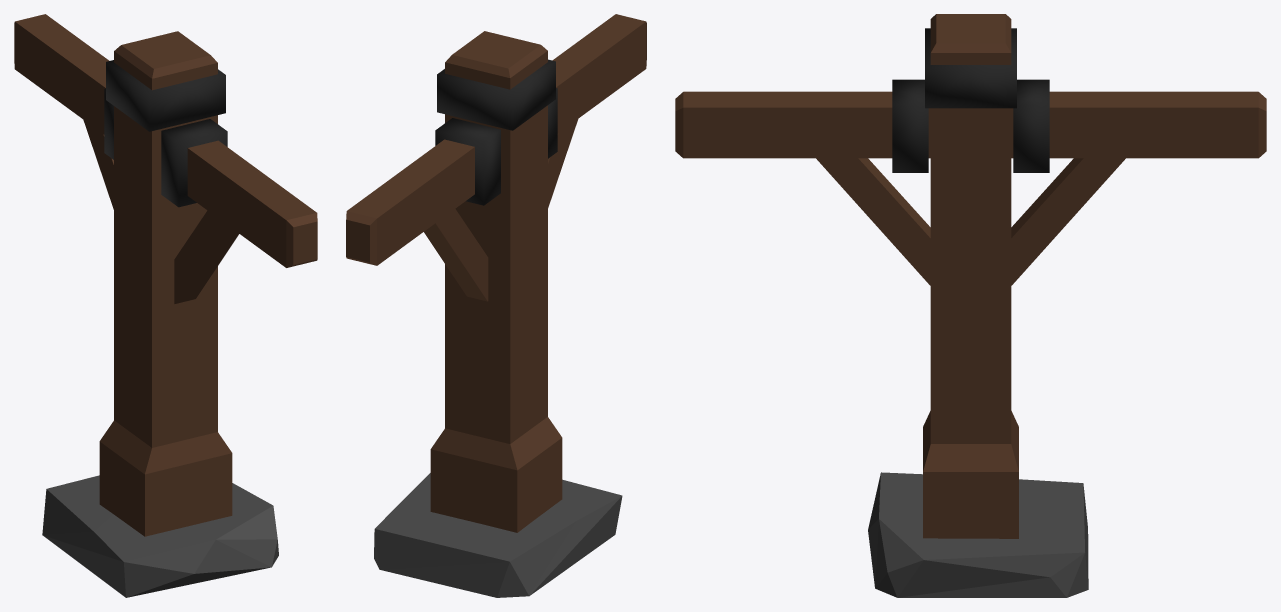
The model's file is Wooden_Pillar_middle.fbx.
The picture shows the model from 3 angles, left to right: view 1: azimuth 30°, elevation 25°; view 2: azimuth 150°, elevation 25°; view 3: azimuth 270°, elevation 25°; orthographic projection. The views are drawn at different scales.
Visible parts, largest first — view 1: Wooden_Pillar_middle; view 2: Wooden_Pillar_middle; view 3: Wooden_Pillar_middle.
Part boxes in pixels (<box>): Wooden_Pillar_middle: <box>14,14,317,597</box>; Wooden_Pillar_middle: <box>346,14,646,597</box>; Wooden_Pillar_middle: <box>675,14,1266,597</box>.
Bounding box in the file's own units: 2.08 × 5.84 × 5.92.
